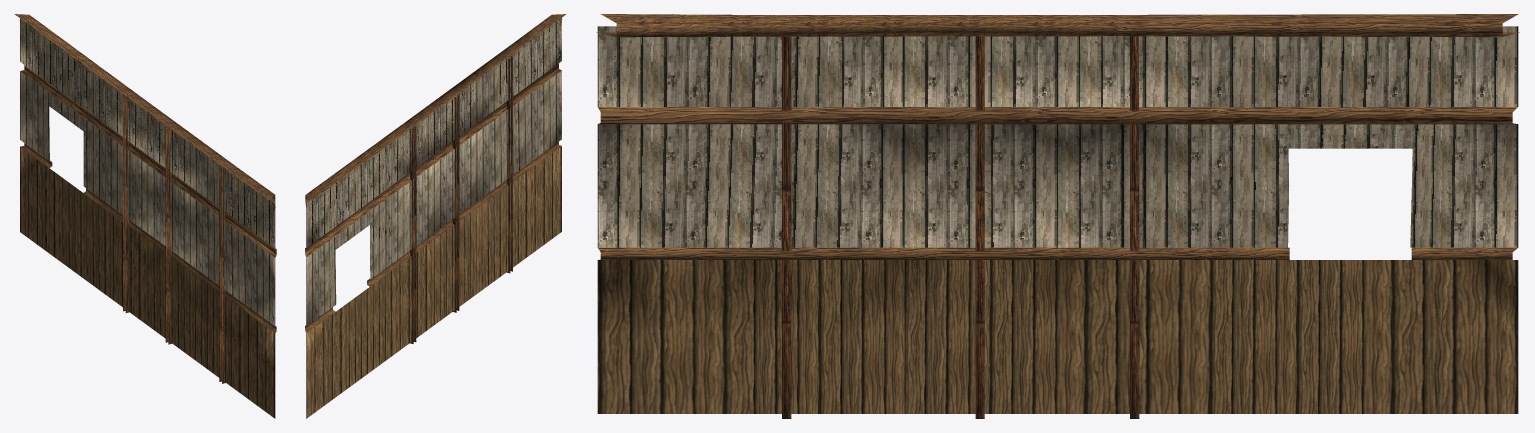
The model's file is LAKETOWN_WAREHOUSE2_PS_WH2_SIDEWALL8877__GX.fbx.
The picture shows the model from 3 angles, left to right: view 1: azimuth 30°, elevation 25°; view 2: azimuth 150°, elevation 25°; view 3: azimuth 270°, elevation 25°; orthographic projection. The views are drawn at different scales.
Parts seen in each view (by area): view 1: LAKETOWN_WAREHOUSE2_PS_WH2_SIDEWALL8877__GX; view 2: LAKETOWN_WAREHOUSE2_PS_WH2_SIDEWALL8877__GX; view 3: LAKETOWN_WAREHOUSE2_PS_WH2_SIDEWALL8877__GX.
Part boxes in pixels (left/top/right/bottom): LAKETOWN_WAREHOUSE2_PS_WH2_SIDEWALL8877__GX: left=14, top=14, right=276, bottom=418; LAKETOWN_WAREHOUSE2_PS_WH2_SIDEWALL8877__GX: left=305, top=14, right=566, bottom=418; LAKETOWN_WAREHOUSE2_PS_WH2_SIDEWALL8877__GX: left=596, top=14, right=1519, bottom=418.
Size of the model in its own units: 5821 by 114126 by 240116.
5 materials, 5 textured.
